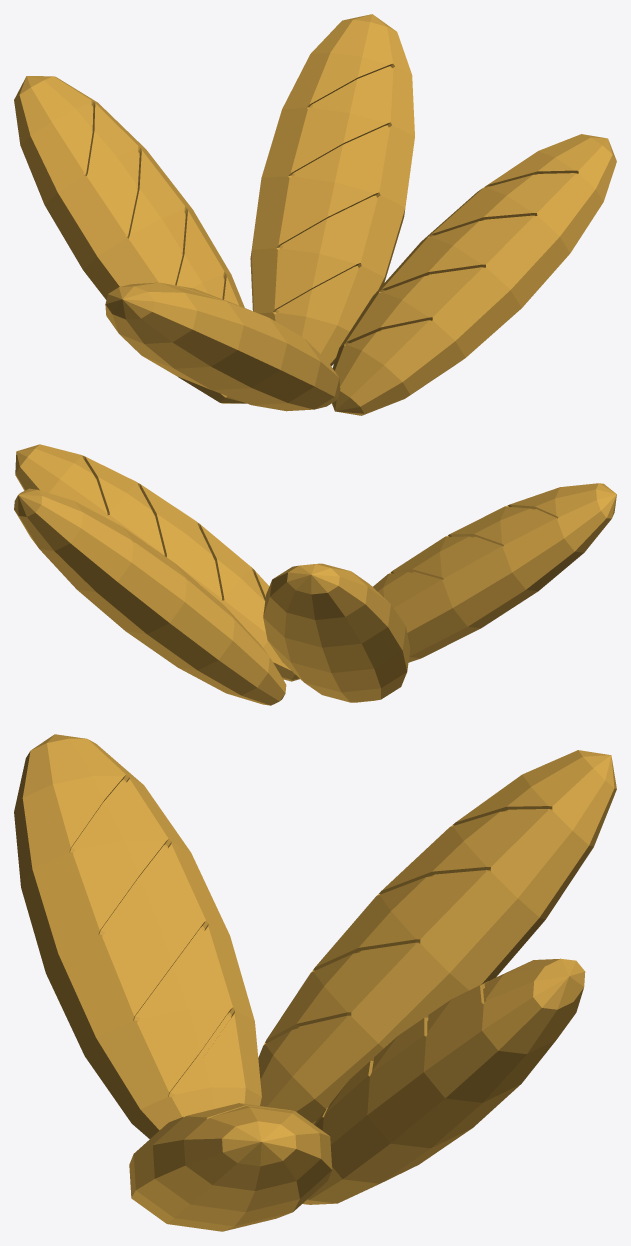
The model's file is Cesta.Baguete.fbx.
The picture shows the model from 3 angles, top to bottom: view 1: azimuth 30°, elevation 25°; view 2: azimuth 150°, elevation 25°; view 3: azimuth 270°, elevation 25°; orthographic projection. The views are drawn at different scales.
Visible parts, largest first — view 1: Cesta.Baguete; view 2: Cesta.Baguete; view 3: Cesta.Baguete.
Boxes of the visible parts, left/top/right/bottom form: Cesta.Baguete: left=14, top=14, right=616, bottom=415; Cesta.Baguete: left=14, top=444, right=616, bottom=705; Cesta.Baguete: left=14, top=734, right=616, bottom=1231.
Size of the model in its own units: 84.96 by 38.19 by 59.4.
